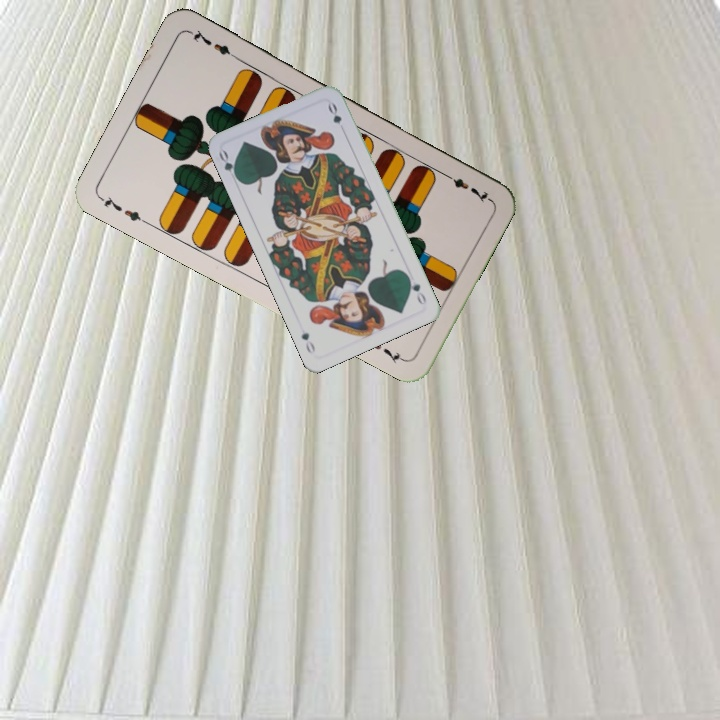E7: (96, 191, 151, 227), (438, 168, 492, 204)
GO: (215, 146, 242, 184), (403, 271, 429, 307)
